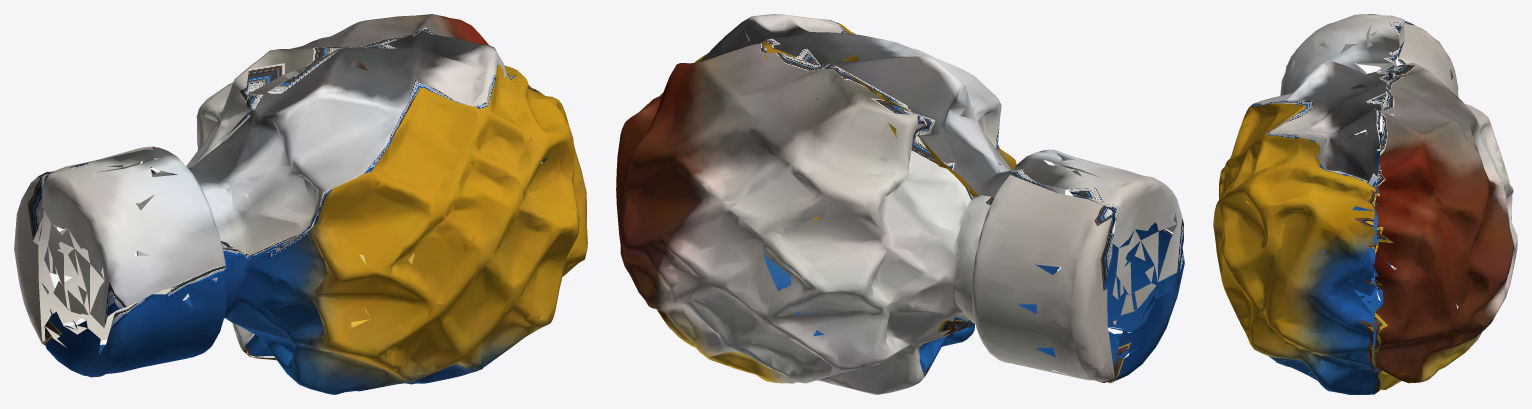
File: glas-parfuemflakon.glb
The picture shows the model from 3 angles, left to right: view 1: azimuth 30°, elevation 25°; view 2: azimuth 150°, elevation 25°; view 3: azimuth 270°, elevation 25°; orthographic projection. The views are drawn at different scales.
Parts seen in each view (by area): view 1: glas-parfuemflakon; view 2: glas-parfuemflakon; view 3: glas-parfuemflakon.
Boxes of the visible parts, left/top/right/bottom form: glas-parfuemflakon: left=14, top=14, right=587, bottom=394; glas-parfuemflakon: left=616, top=14, right=1184, bottom=394; glas-parfuemflakon: left=1213, top=14, right=1517, bottom=394.
Size of the model in its own units: 0.1195 by 0.075 by 0.0751.
1 material, 1 textured.
